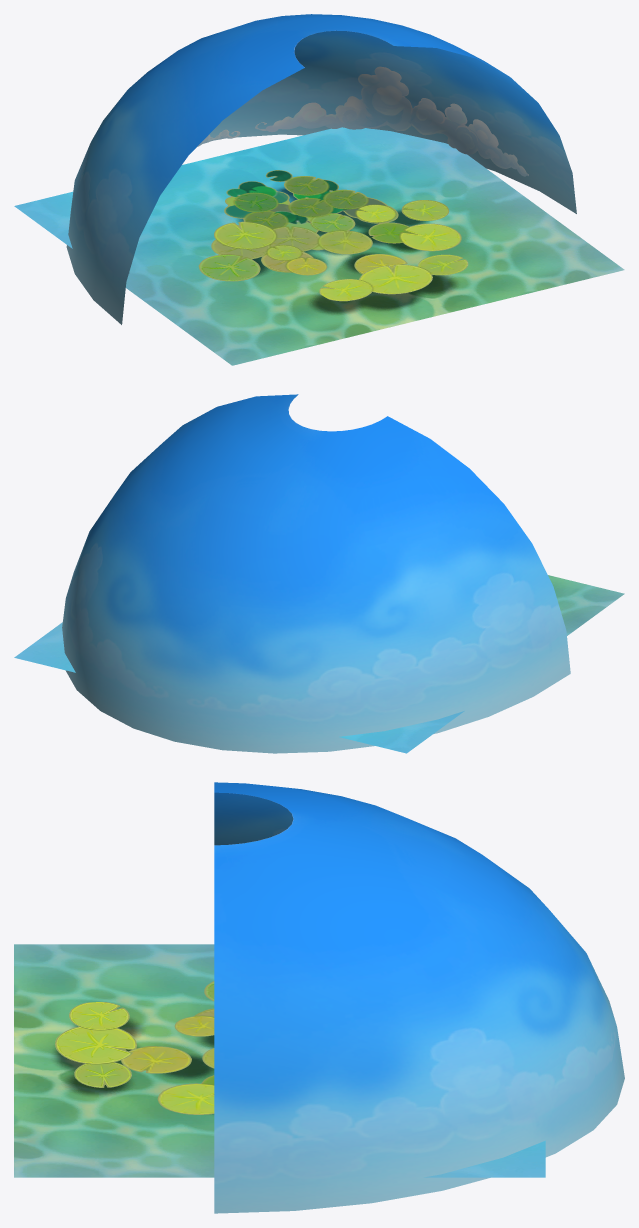
The model's file is yunmengze_tiandi.FBX.
The picture shows the model from 3 angles, top to bottom: view 1: azimuth 30°, elevation 25°; view 2: azimuth 150°, elevation 25°; view 3: azimuth 270°, elevation 25°; orthographic projection. The views are drawn at different scales.
Parts seen in each view (by area): view 1: objPlane014, objSphere004, objPlane012, objSphere003, objPlane013; view 2: objSphere004, objPlane014; view 3: objSphere004, objPlane014, objPlane013, objPlane012.
Part boxes in pixels (x1,y1,x2,y2): objPlane014: [14, 127, 624, 365]; objSphere004: [66, 14, 576, 324]; objPlane012: [198, 170, 461, 281]; objSphere003: [129, 66, 528, 273]; objPlane013: [319, 254, 468, 301]; objSphere004: [62, 394, 570, 753]; objPlane014: [14, 575, 624, 753]; objSphere004: [214, 782, 624, 1213]; objPlane014: [14, 944, 545, 1177]; objPlane013: [55, 1002, 136, 1087]; objPlane012: [121, 981, 214, 1114].
Size of the model in its own units: 693 by 324 by 662.
